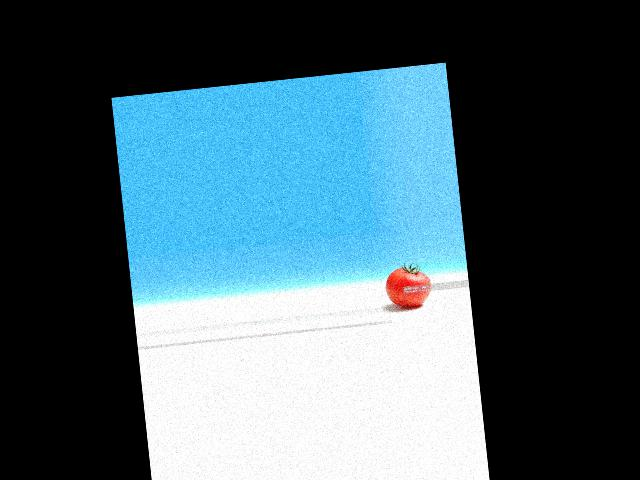tomato: (384, 264, 433, 308)
